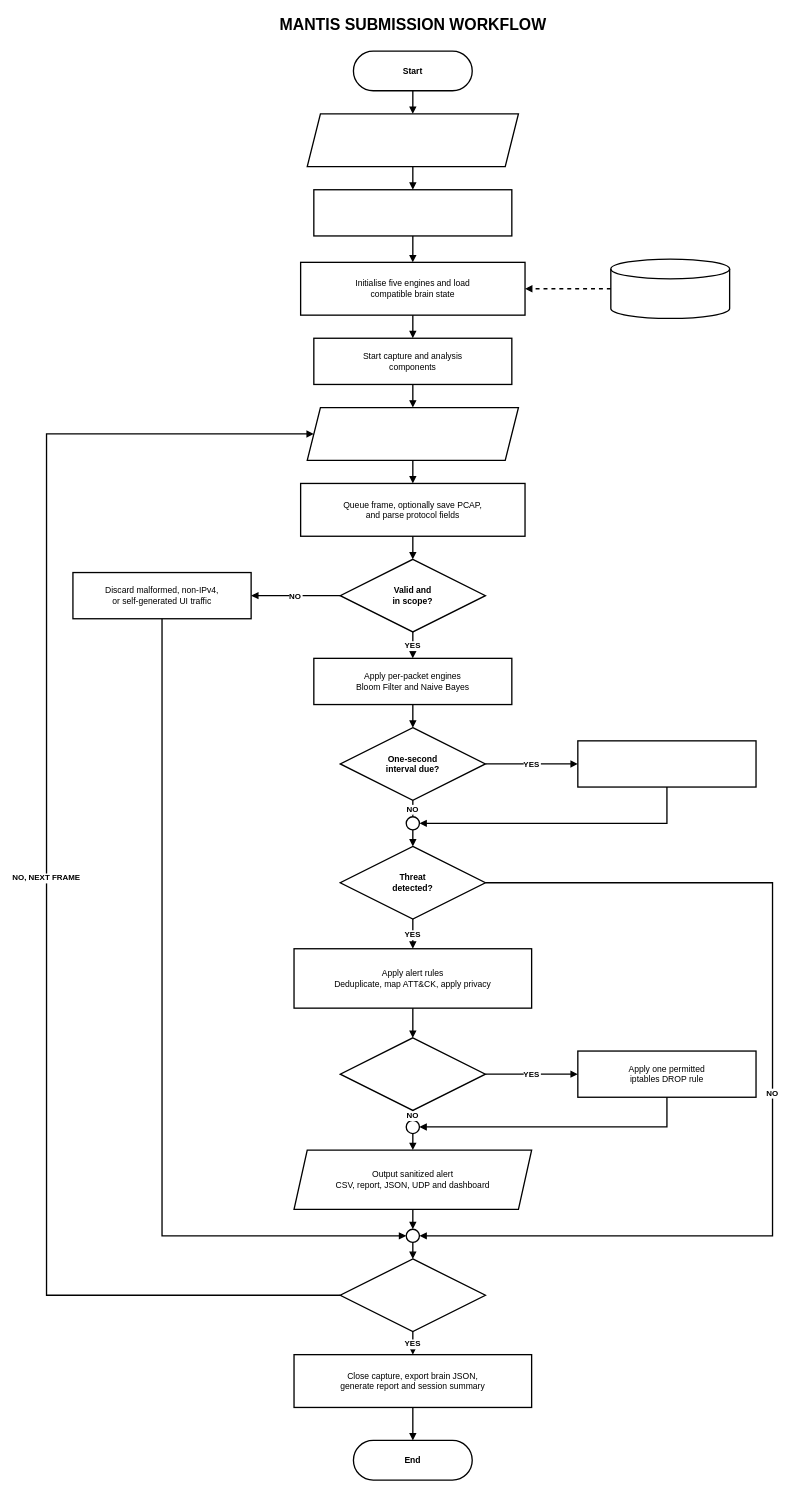
Some shapes in this 790 by 1492 pixel diagram are drawn without their labels. The shapes that lost their labels are listed below. From the top down, each one's centre as x and y in pixels, then its label:
At [412,140]: "Input Configuration, operating mode, traffic source".
At [412,212]: "Validate configuration and select CLI or web mode".
At [670,288]: "Brain-state JSON".
At [412,434]: "Input next frame AF_PACKET or offline PCAP replay".
At [666,763]: "Apply interval engines Z-Score, KNN and K-Means".
At [412,1074]: "Blocking policy satisfied?".
At [412,1295]: "Stop requested?".
